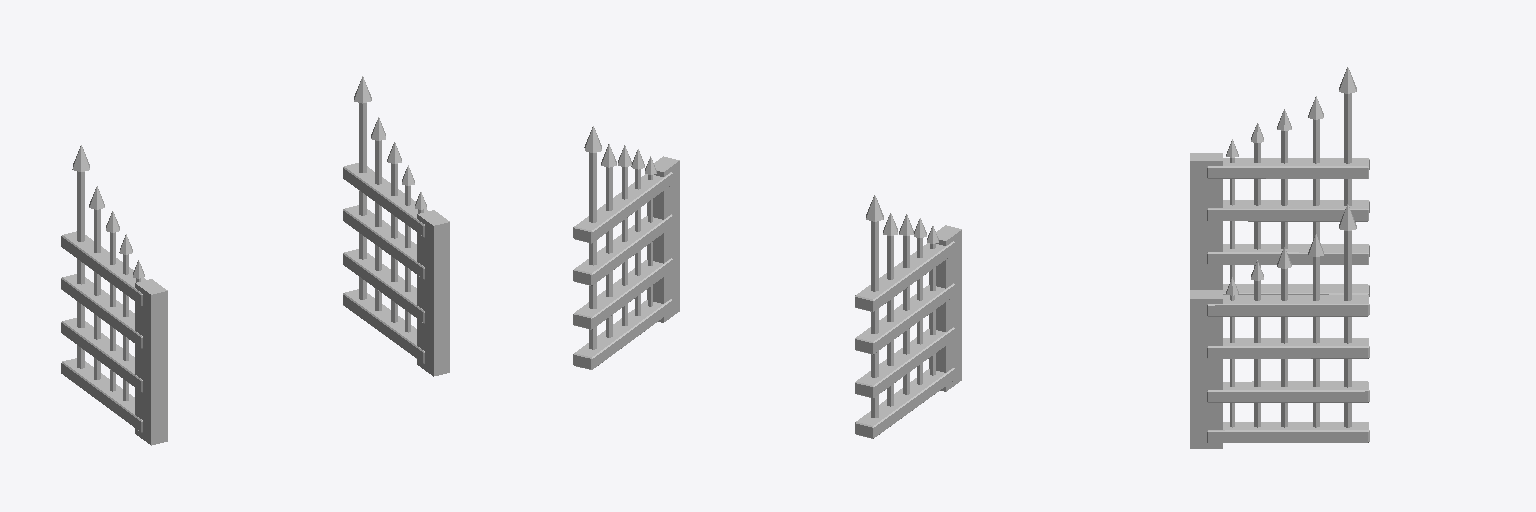
The model's file is GraveYard_Door.obj.
The picture shows the model from 3 angles: view 1: azimuth 30°, elevation 25°; view 2: azimuth 150°, elevation 25°; view 3: azimuth 270°, elevation 25°; orthographic projection.
Visible parts, largest first — view 1: GraveYard_Door_Cube.001; view 2: GraveYard_Door_Cube.001; view 3: GraveYard_Door_Cube.001.
Boxes of the visible parts, x1,y1,x2,y2 form: GraveYard_Door_Cube.001: [61, 76, 449, 445]; GraveYard_Door_Cube.001: [573, 126, 961, 438]; GraveYard_Door_Cube.001: [1190, 67, 1369, 448].
Bounding box in the file's own units: 5.85 × 4.45 × 3.